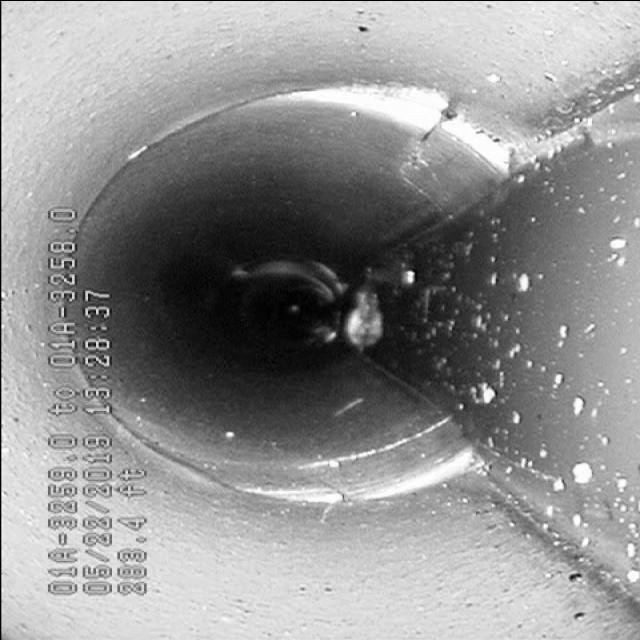Crack: (353, 104, 479, 213)
